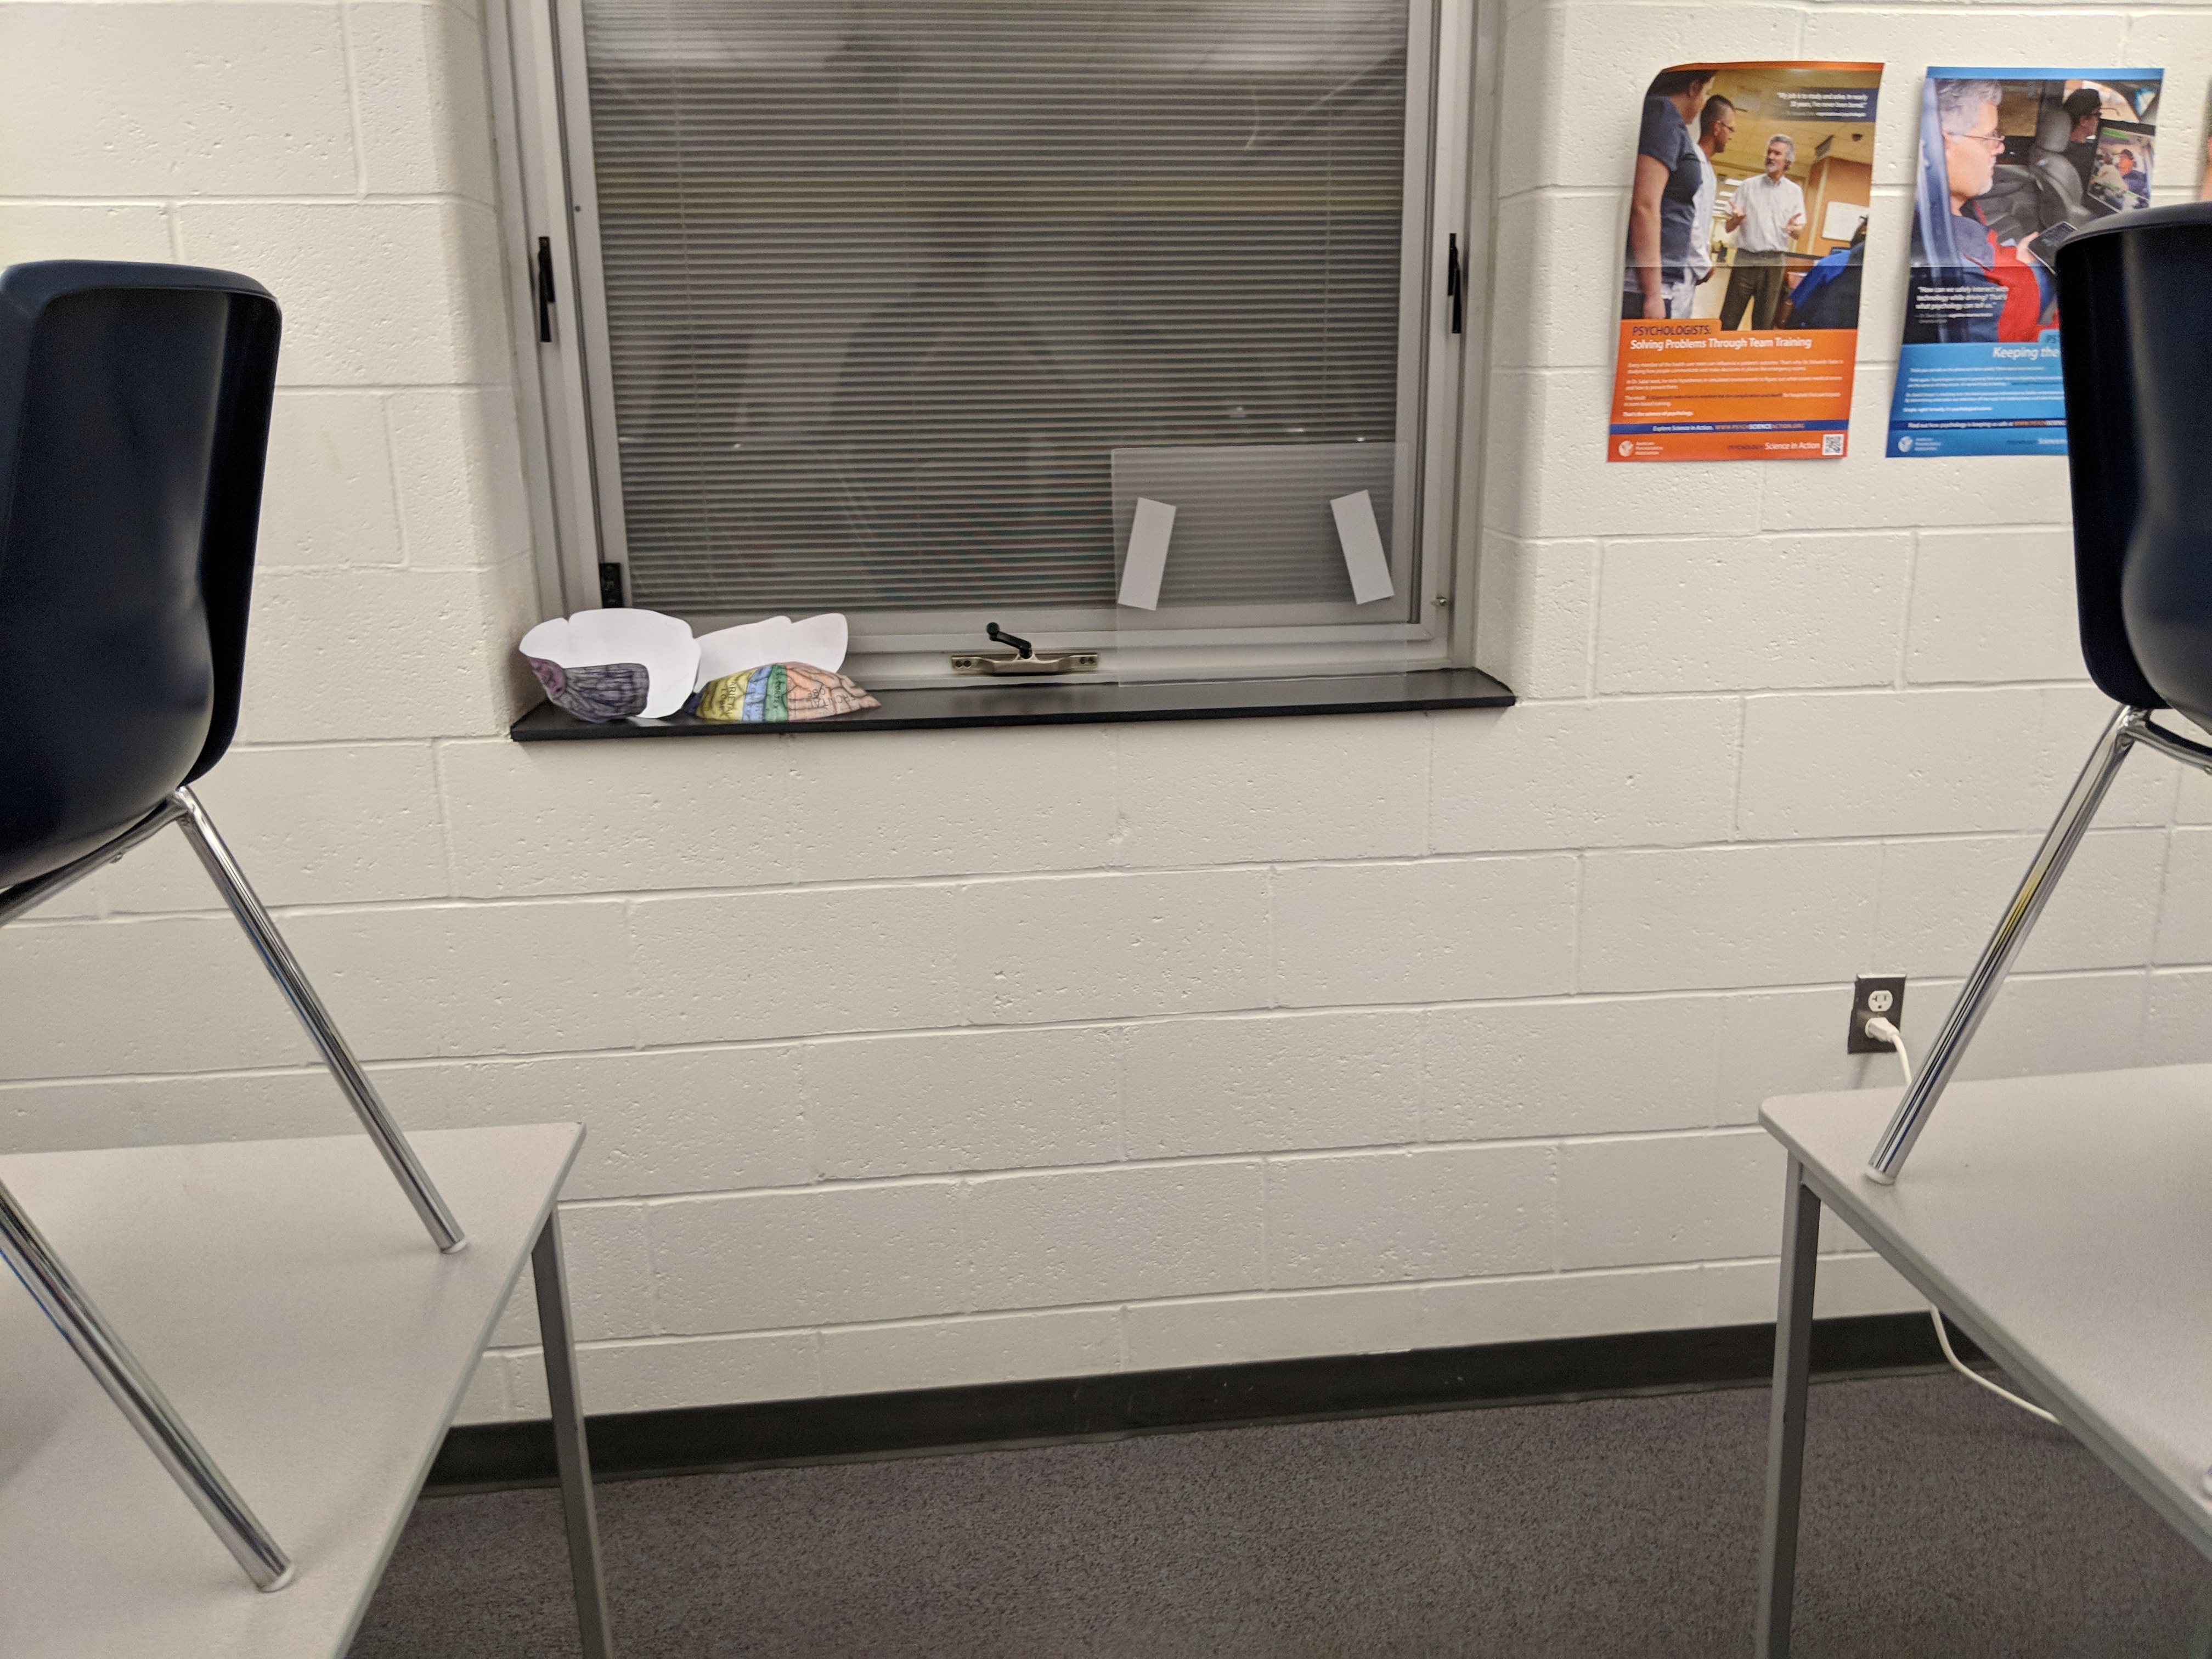vision_target: (1103, 493, 1406, 612)
